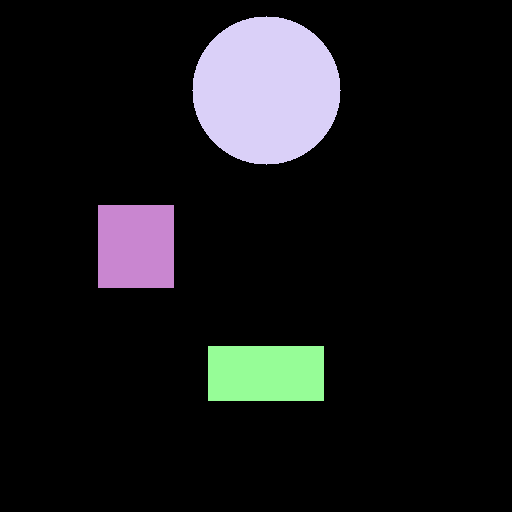circle: (192, 16, 340, 164)
rectangle: (208, 346, 323, 400)
square: (98, 205, 173, 287)
